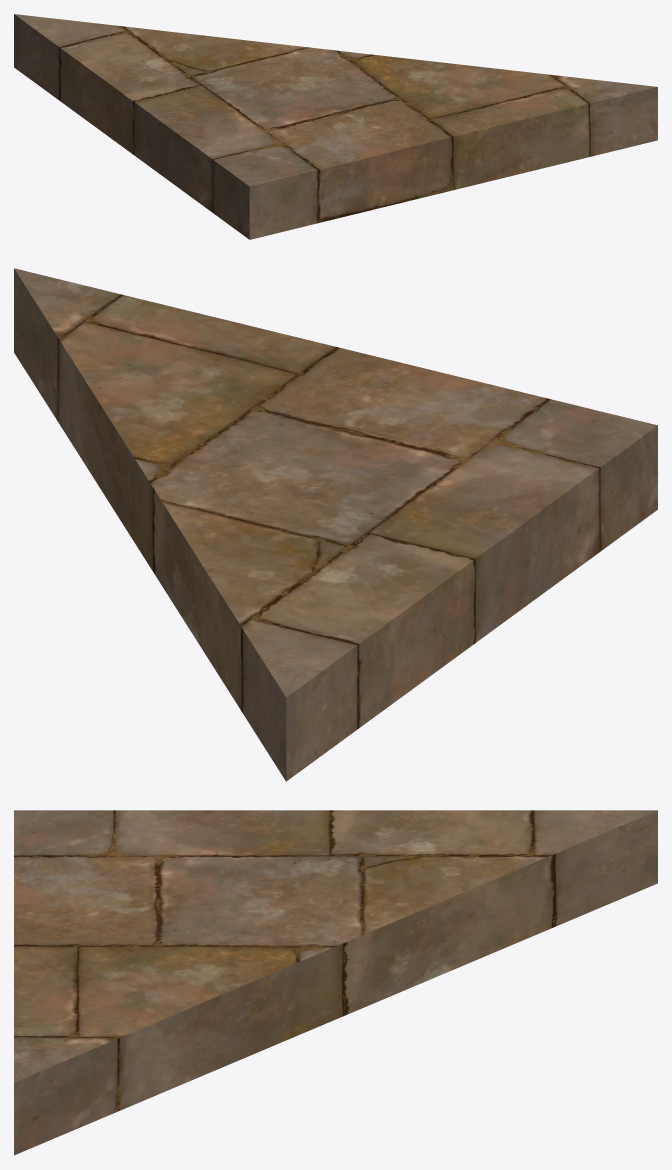
3 views of the same model, one above another, from view 1: azimuth 30°, elevation 25°; view 2: azimuth 150°, elevation 25°; view 3: azimuth 270°, elevation 25° (orthographic). The views are drawn at different scales.
Visible parts, largest first — view 1: SM_Vault_4m_Triangular_Floor_01v1_LOD0; view 2: SM_Vault_4m_Triangular_Floor_01v1_LOD0; view 3: SM_Vault_4m_Triangular_Floor_01v1_LOD0.
Part boxes in pixels (x1,y1,x2,y2): SM_Vault_4m_Triangular_Floor_01v1_LOD0: (14, 14, 657, 239); SM_Vault_4m_Triangular_Floor_01v1_LOD0: (14, 268, 657, 781); SM_Vault_4m_Triangular_Floor_01v1_LOD0: (14, 810, 657, 1155).
Size of the model in its own units: 4 by 0.5 by 4.
Materials: 1 (1 with a texture image).
